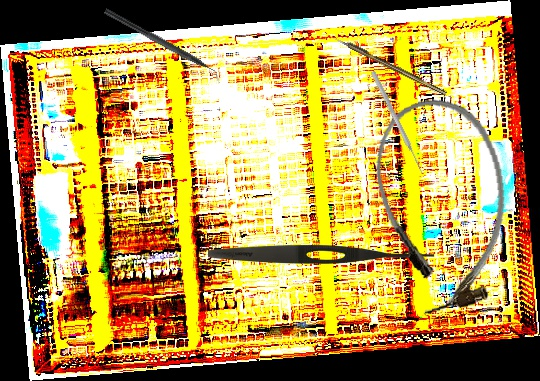Cannula: (365, 91, 521, 319)
Chopper: (99, 8, 226, 85)
Dressing Forceps: (208, 244, 434, 264)
Hook Surgical: (330, 33, 448, 97)
Pusher: (369, 70, 426, 175)
